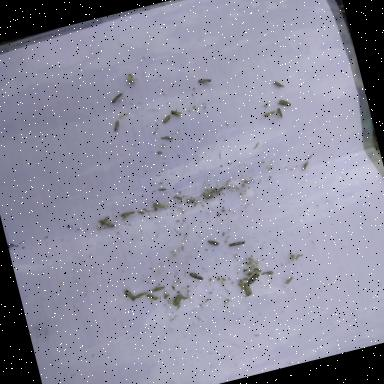pbw: (108, 90, 128, 104), (188, 270, 206, 282), (146, 290, 162, 303), (170, 292, 184, 306), (245, 273, 261, 285), (100, 217, 114, 229), (124, 72, 136, 86), (242, 282, 253, 297), (118, 209, 136, 218), (227, 239, 246, 247), (272, 78, 284, 90), (277, 98, 291, 108), (98, 215, 110, 226), (208, 237, 220, 248), (170, 107, 182, 118), (264, 110, 276, 120), (150, 285, 165, 293), (152, 200, 164, 210), (134, 291, 148, 299), (198, 76, 212, 84), (276, 106, 284, 119), (248, 268, 261, 276), (300, 162, 310, 172), (238, 279, 246, 291), (112, 120, 120, 132), (162, 114, 172, 123)
